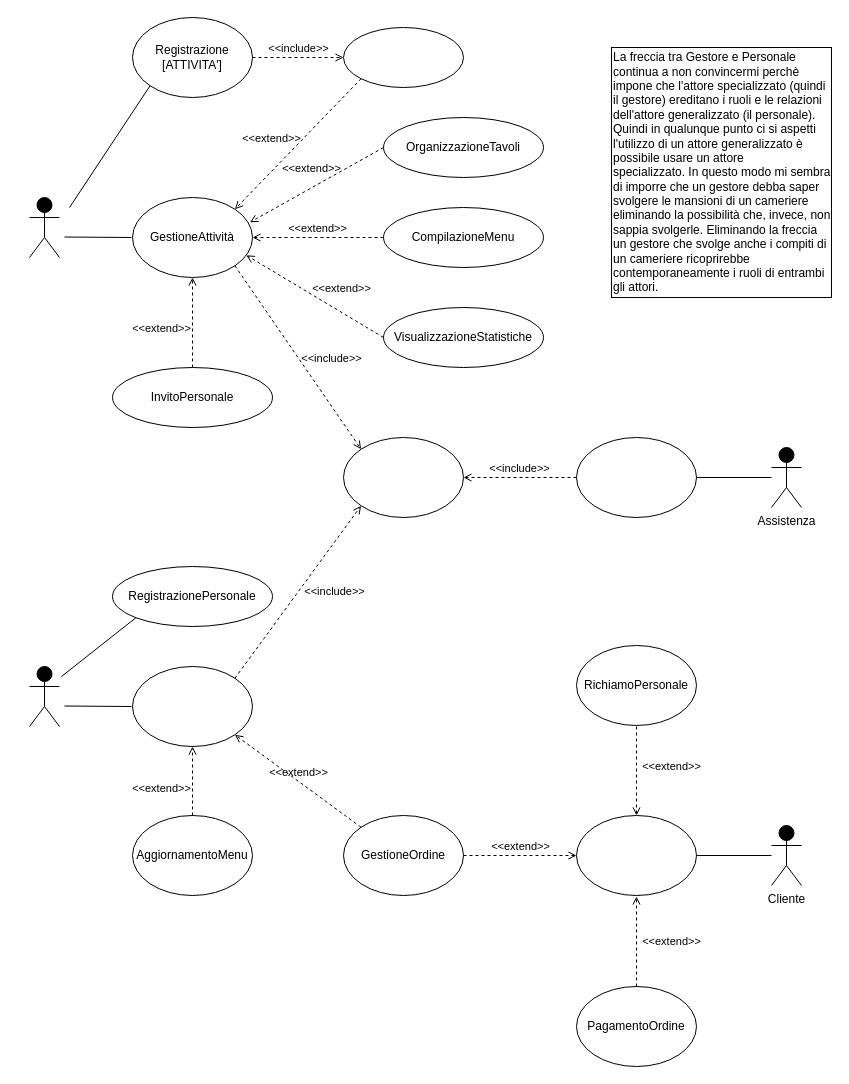
This 849x1084 diagram has some shape labels left out. The shapes that lost their labels are listed below. From the top down, each one's box as (x1, y1, x2, y2) in pixels, then its label:
(342, 26, 464, 88): Gestione Abbonamento
(28, 196, 60, 258): Gestore
(342, 436, 464, 518): Login
(576, 436, 696, 518): GestioneAssistenza
(28, 666, 60, 726): Personale
(132, 666, 252, 746): GestionePersonale
(576, 814, 696, 896): GestioneCliente
